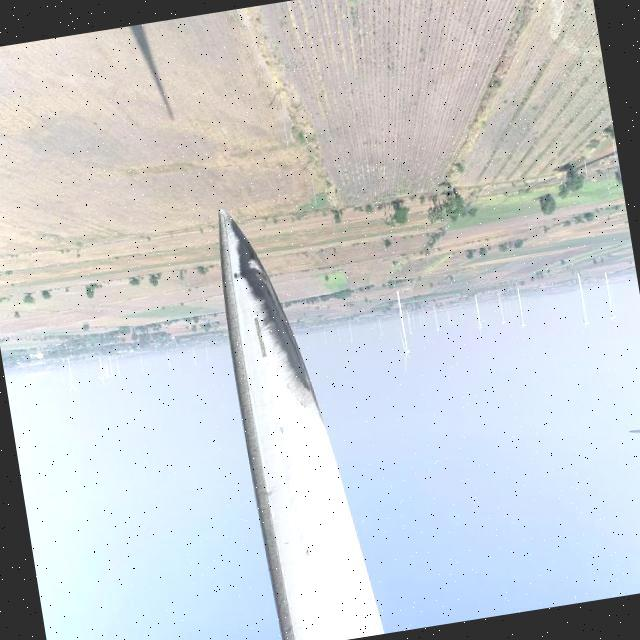Dirt: (215, 209, 388, 639)
Oil LEAKAGE: (230, 213, 323, 416)
Pin Hole: (301, 544, 314, 560), (277, 422, 289, 438), (230, 268, 243, 282)
